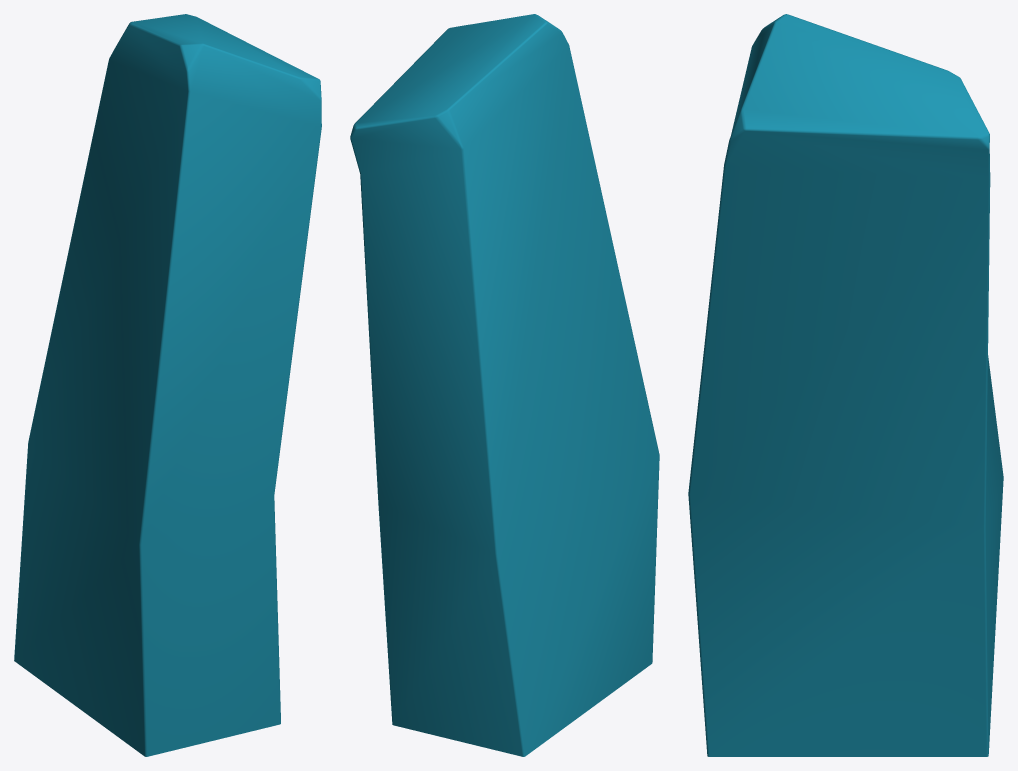
File: Stone4.fbx
3 views of the same model, side by side, from view 1: azimuth 30°, elevation 25°; view 2: azimuth 150°, elevation 25°; view 3: azimuth 270°, elevation 25° (orthographic). The views are drawn at different scales.
Visible parts, largest first — view 1: Stone4_Lp; view 2: Stone4_Lp; view 3: Stone4_Lp.
Boxes of the visible parts, x1,y1,x2,y2 form: Stone4_Lp: [14, 14, 321, 756]; Stone4_Lp: [350, 14, 659, 756]; Stone4_Lp: [688, 14, 1003, 756].
Bounding box in the file's own units: 77.53 × 249 × 100.
